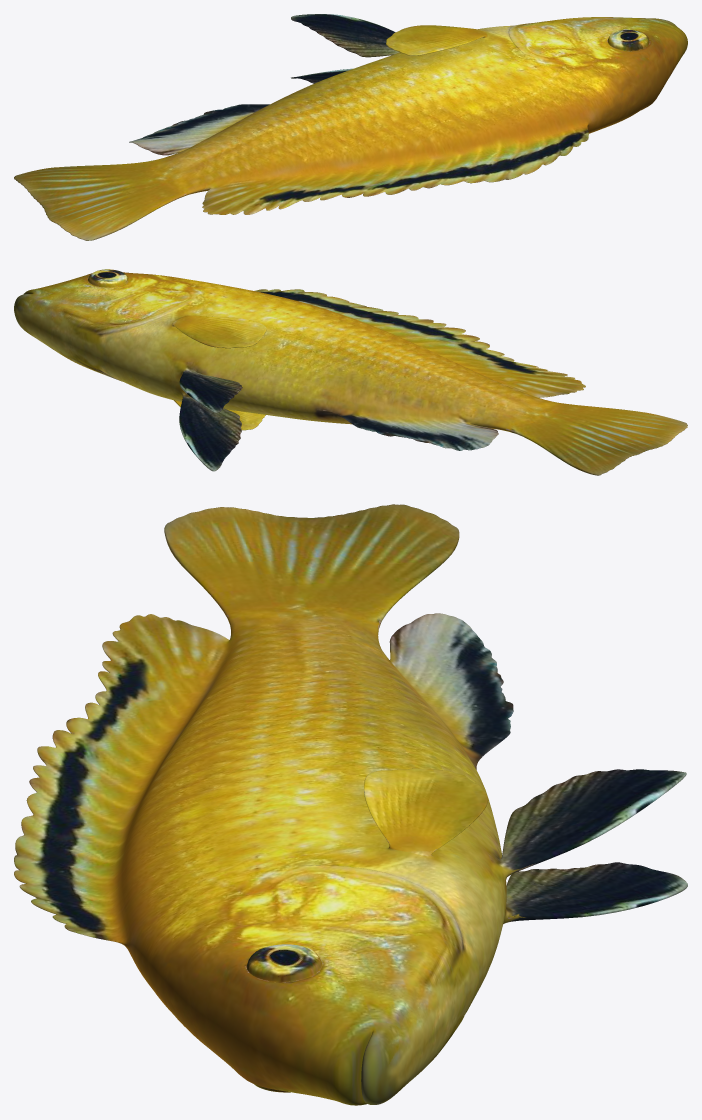
3 views of the same model, one above another, from view 1: azimuth 30°, elevation 25°; view 2: azimuth 150°, elevation 25°; view 3: azimuth 270°, elevation 25° (orthographic). The views are drawn at different scales.
Parts seen in each view (by area): view 1: 12988_Electric_Yellow_Cichlid; view 2: 12988_Electric_Yellow_Cichlid; view 3: 12988_Electric_Yellow_Cichlid.
Part boxes in pixels (x1=…): 12988_Electric_Yellow_Cichlid: x1=14, y1=14, x2=687, y2=240; 12988_Electric_Yellow_Cichlid: x1=14, y1=269, x2=687, y2=475; 12988_Electric_Yellow_Cichlid: x1=14, y1=504, x2=687, y2=1105.
Size of the model in its own units: 4.52 by 0.6005 by 2.23.
1 material, 1 textured.
